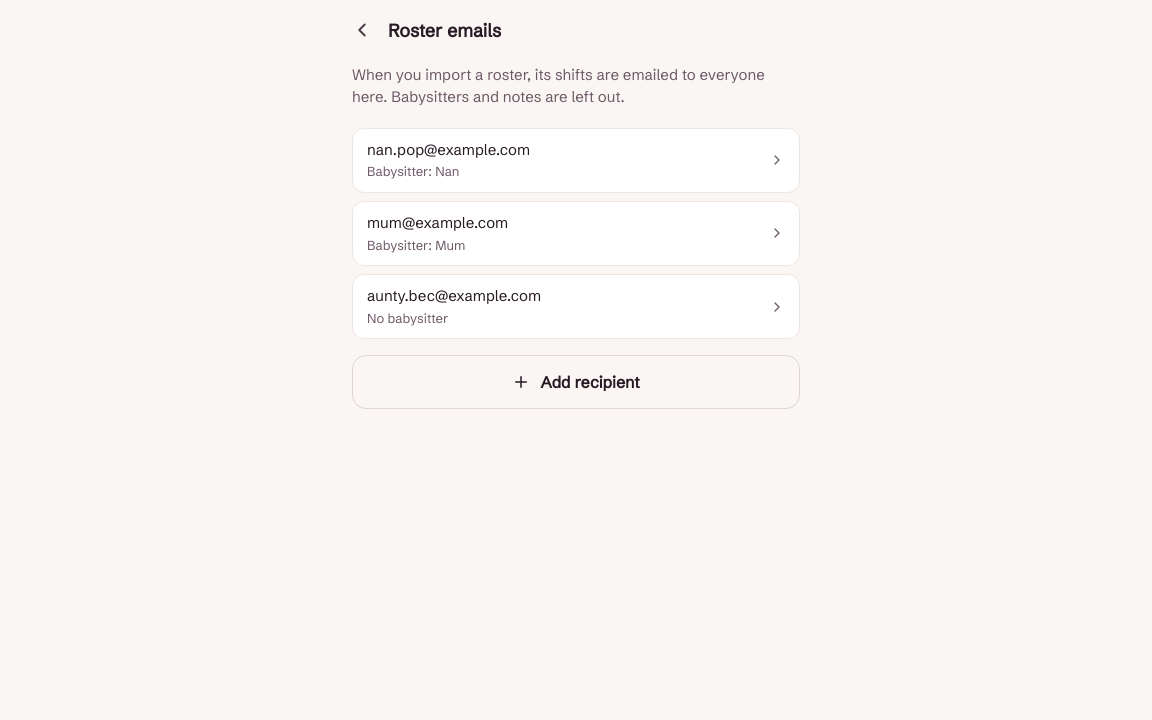
Roster emails screen › shows the server's 400 text under the field
The width and height of the screenshot is (1152, 720).
Expected: the heading "Roster emails" is shown, [388, 16, 501, 44]
Click the button "Add recipient" at (576, 382), box [352, 355, 800, 409]
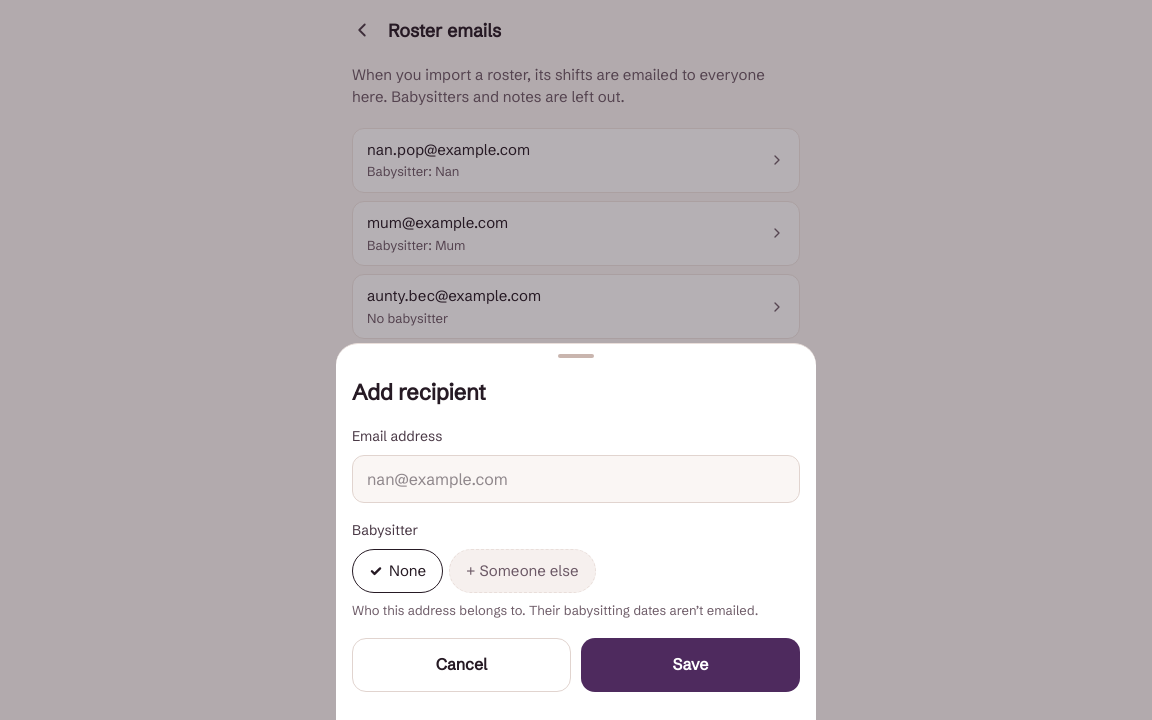
Result: the dialog is shown at [336, 343, 816, 719]
Type "odd@example.com" into the field labelled "Email address" at (576, 479), box [352, 455, 800, 503]
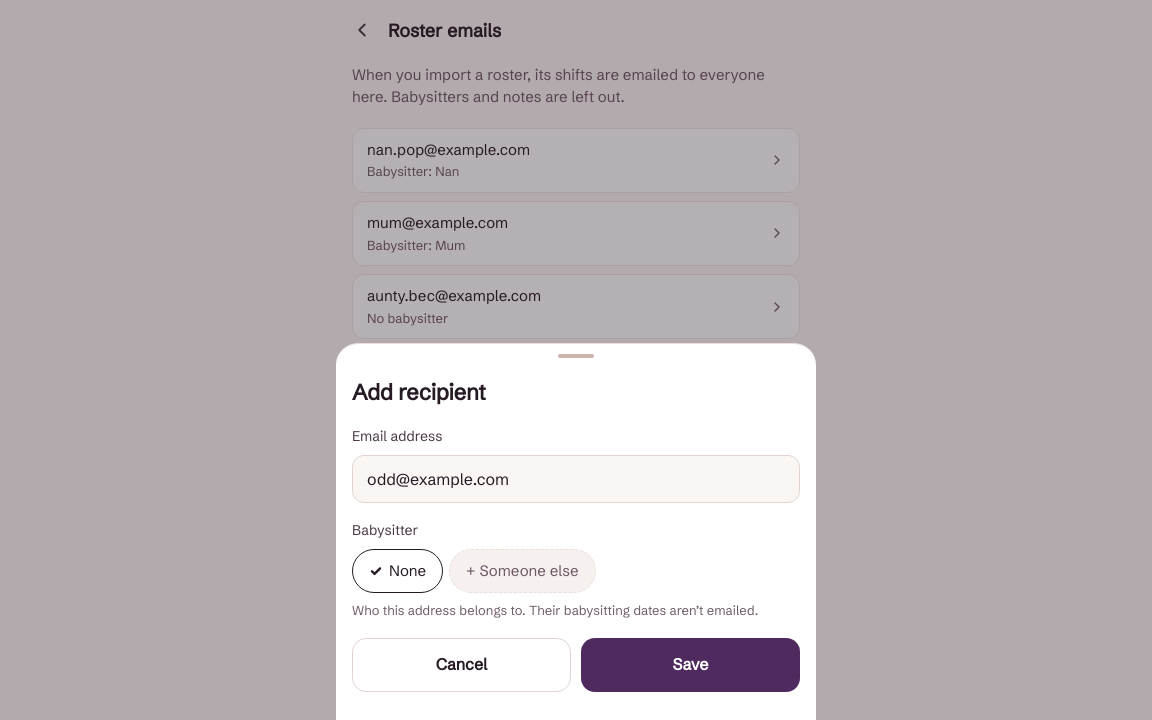
Click the button "Save" at (690, 665), box [581, 638, 800, 692]
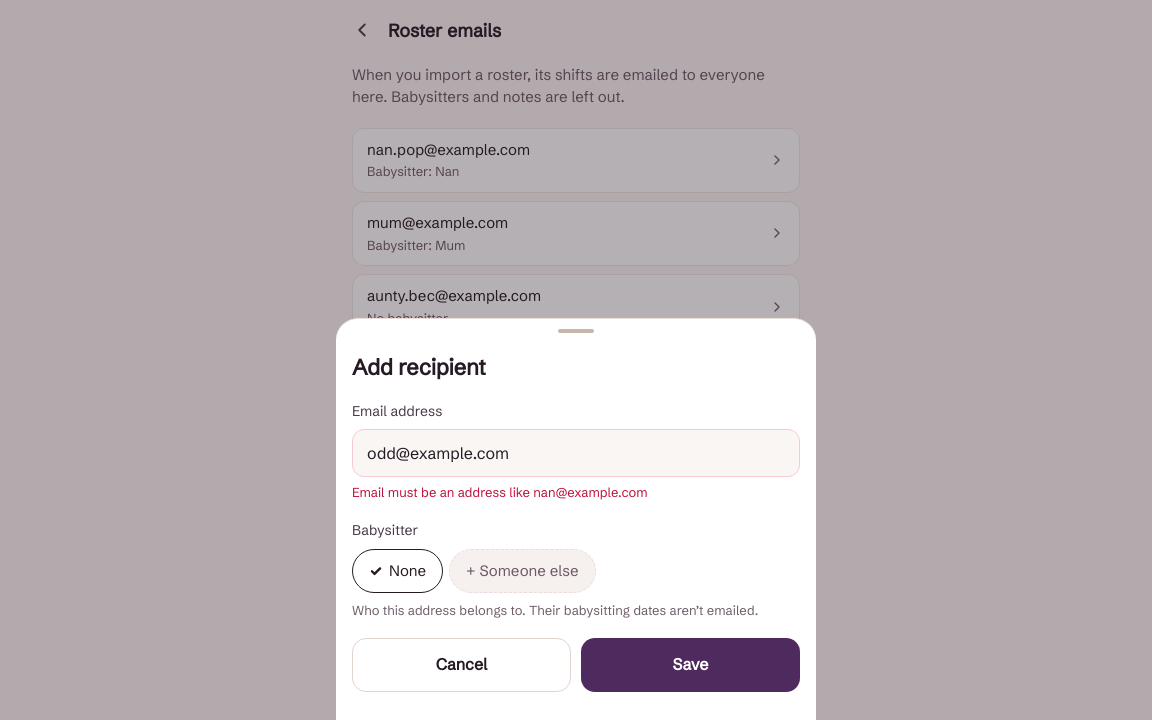
Result: the text "Email must be an address like nan@example.com" is shown at [352, 484, 648, 500]
